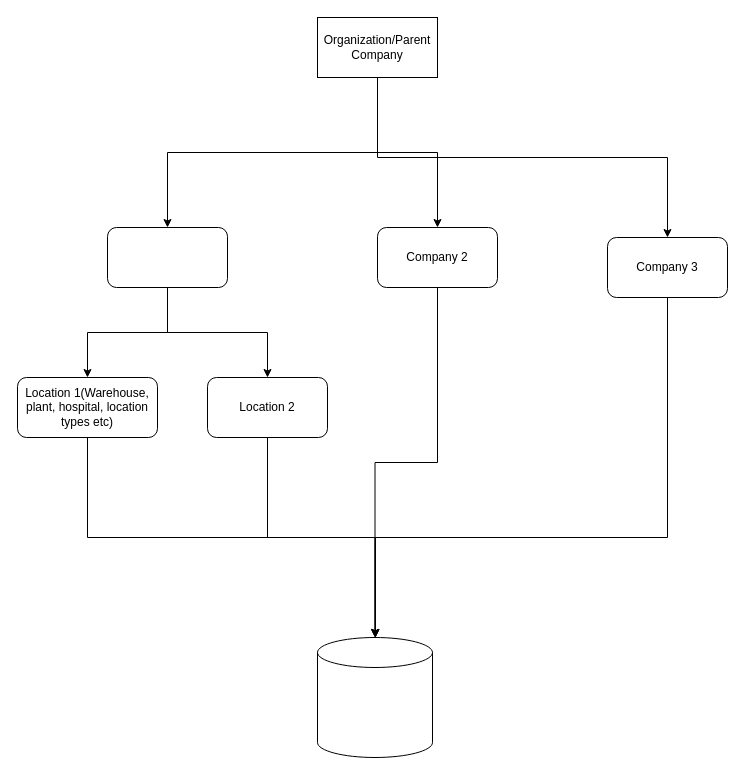
The diagram is 745 pixels wide and 775 high, and some of its shapes have lost their labels. Each missing label, with the box of its shape:
Company 1: (106, 226, 228, 288)
DB: (316, 636, 432, 758)
